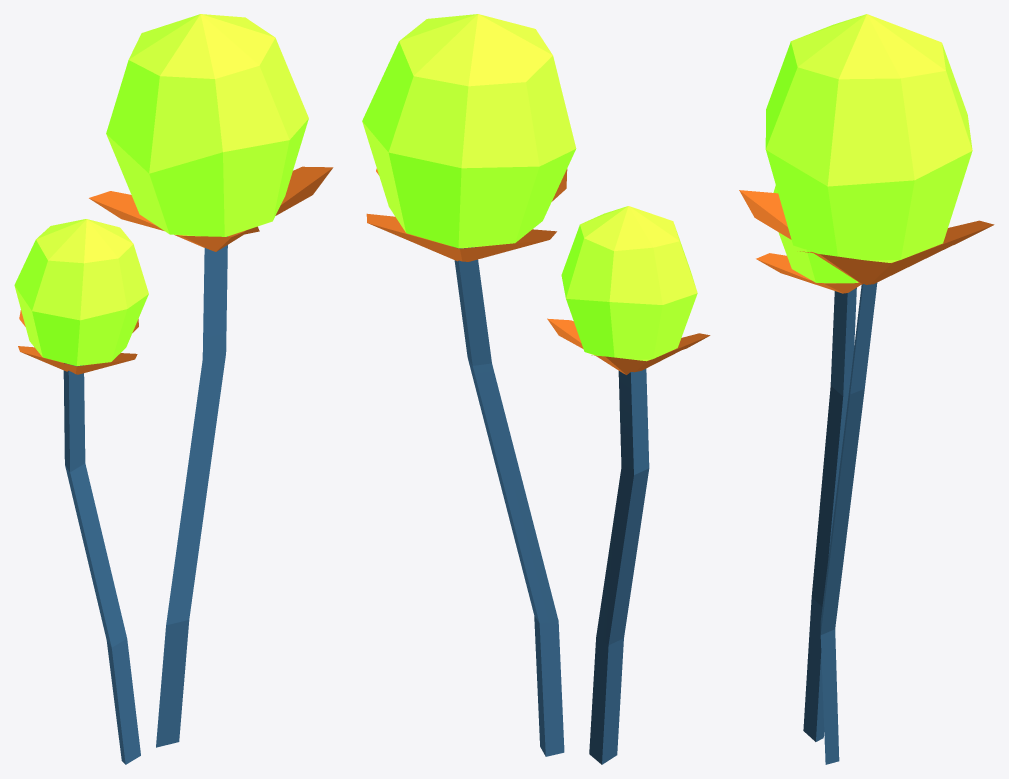
Rendered from scifi_scifi-plant-orb-big.fbx.
3 views of the same model, side by side, from view 1: azimuth 30°, elevation 25°; view 2: azimuth 150°, elevation 25°; view 3: azimuth 270°, elevation 25° (orthographic). The views are drawn at different scales.
Visible parts, largest first — view 1: scifi_scifi_plant_orb_big; view 2: scifi_scifi_plant_orb_big; view 3: scifi_scifi_plant_orb_big.
Part boxes in pixels (left/top/right/bottom): scifi_scifi_plant_orb_big: left=14, top=14, right=333, bottom=764; scifi_scifi_plant_orb_big: left=362, top=14, right=710, bottom=764; scifi_scifi_plant_orb_big: left=739, top=14, right=994, bottom=764.
Size of the model in its own units: 92.41 by 200 by 59.71.
